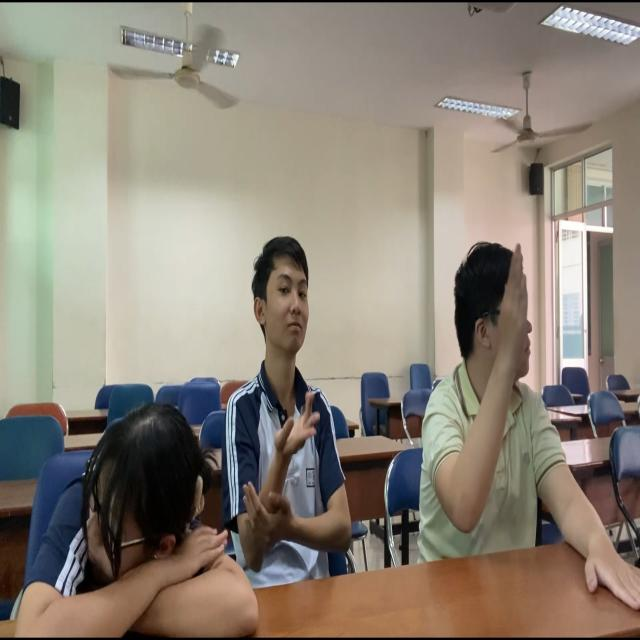raise_hand: (409, 235, 582, 556)
sleep: (1, 406, 252, 640)
